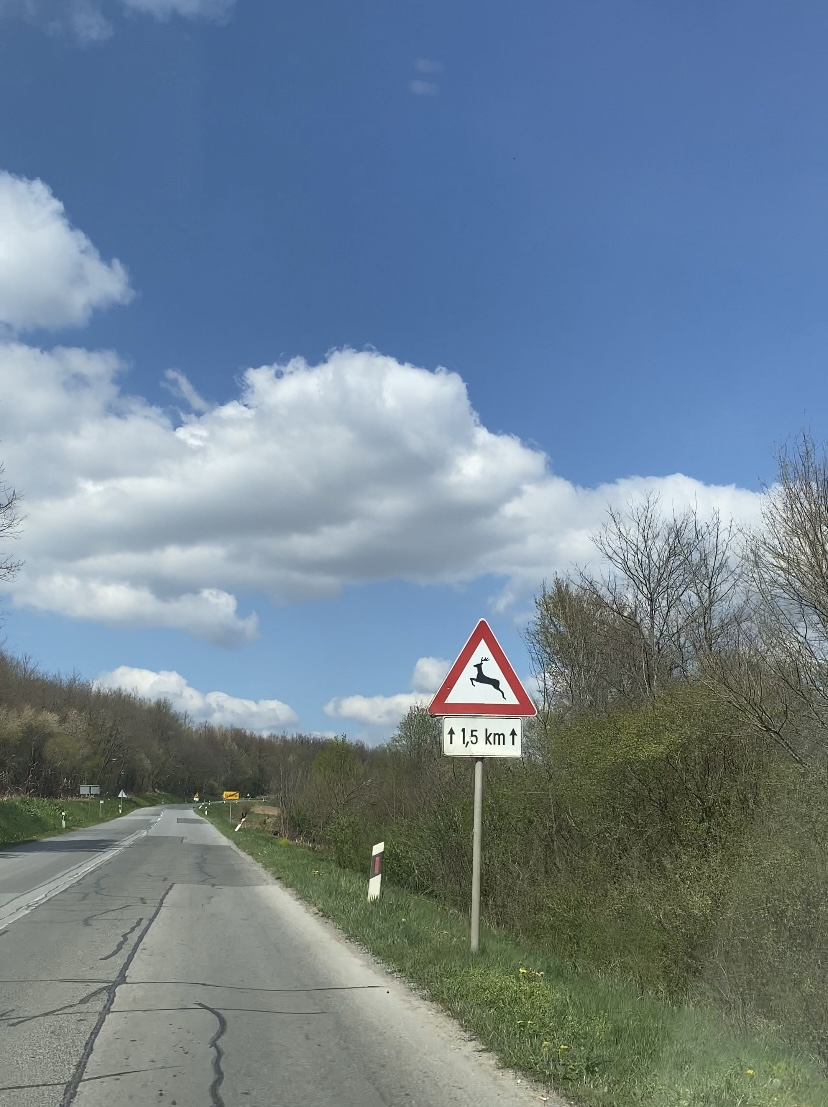Divljač na cesti: (427, 617, 538, 716)
